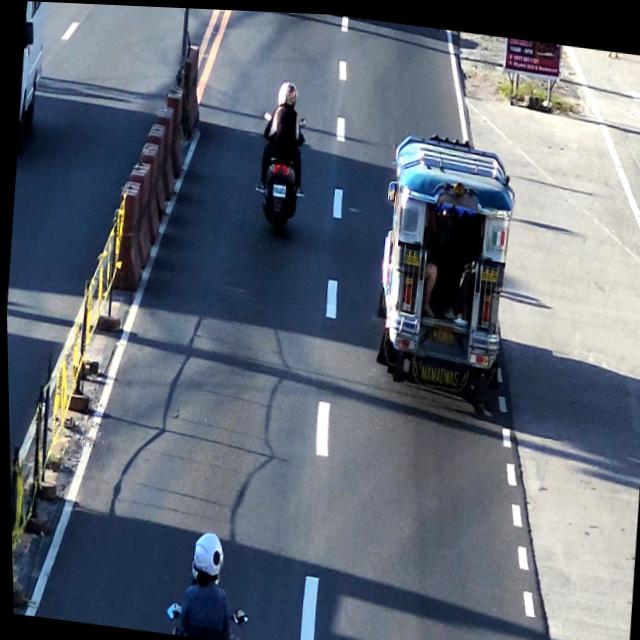Jeep: (371, 123, 517, 395)
License-Plate: (429, 321, 455, 339), (270, 178, 287, 194)
Motorcycle: (253, 71, 308, 234), (167, 532, 247, 640)
